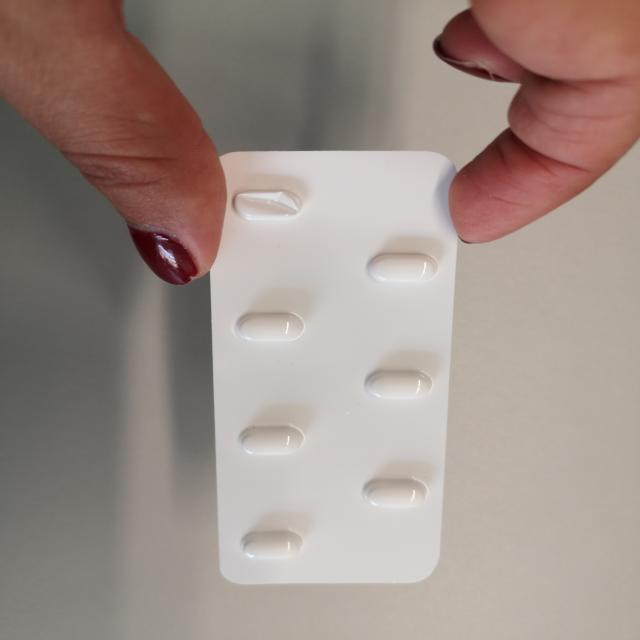Empty: (230, 186, 306, 222)
Pill: (225, 309, 308, 345), (363, 251, 440, 287), (362, 368, 436, 404), (235, 422, 308, 457), (235, 528, 306, 562), (359, 476, 432, 509)
